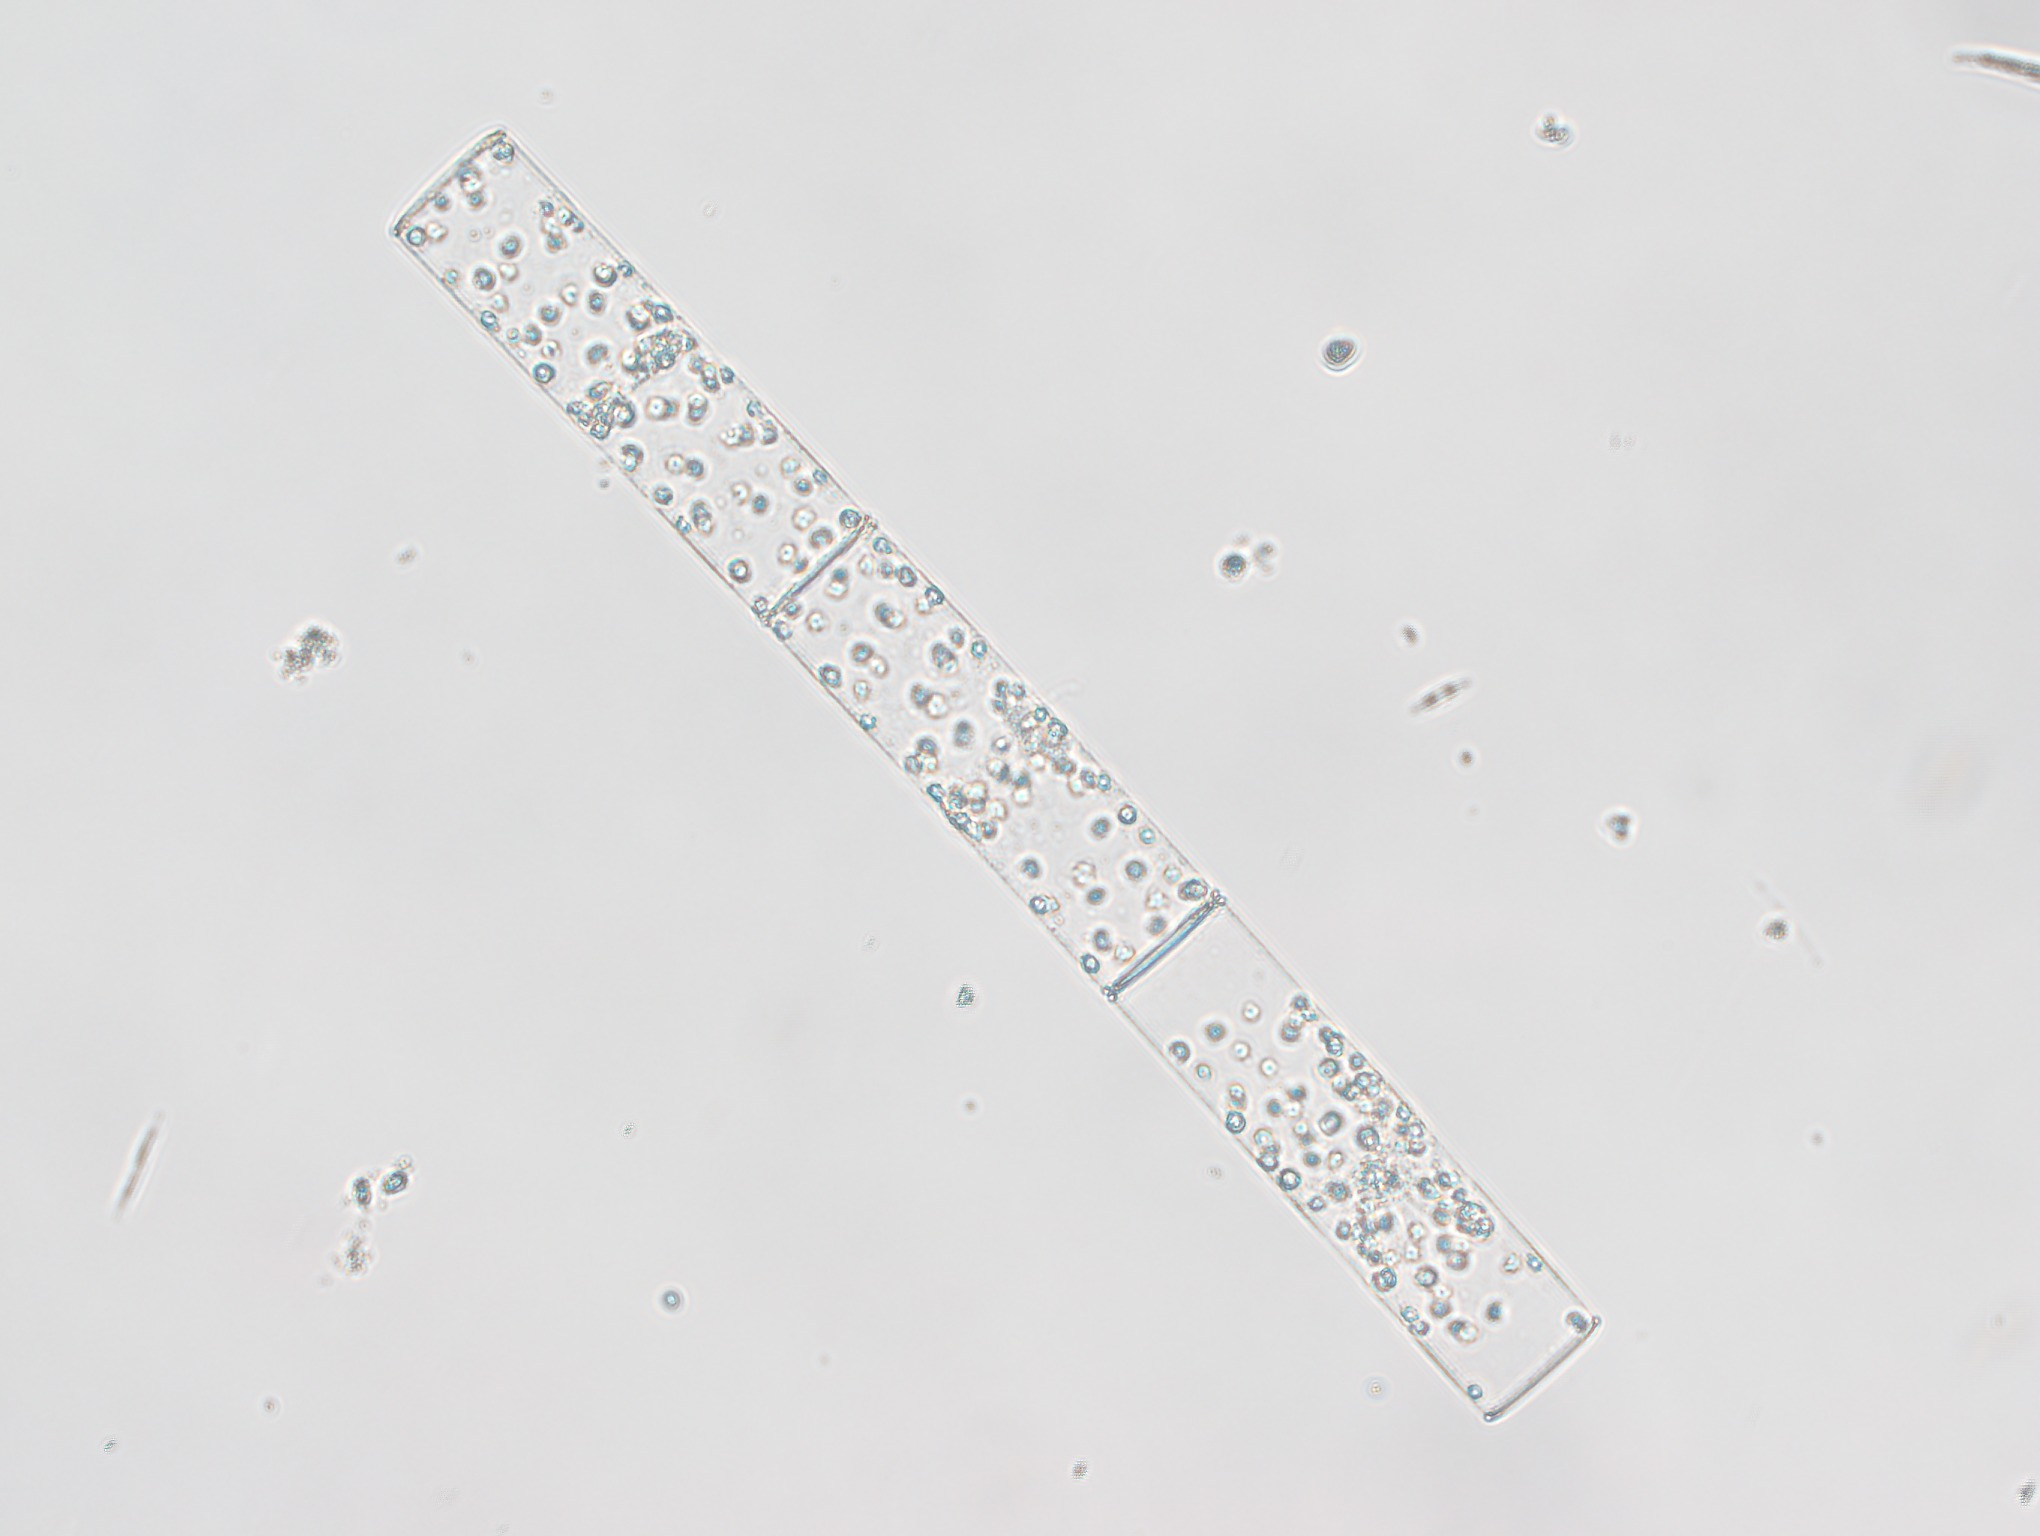guinardia flaccida: (352, 94, 1658, 1449)
